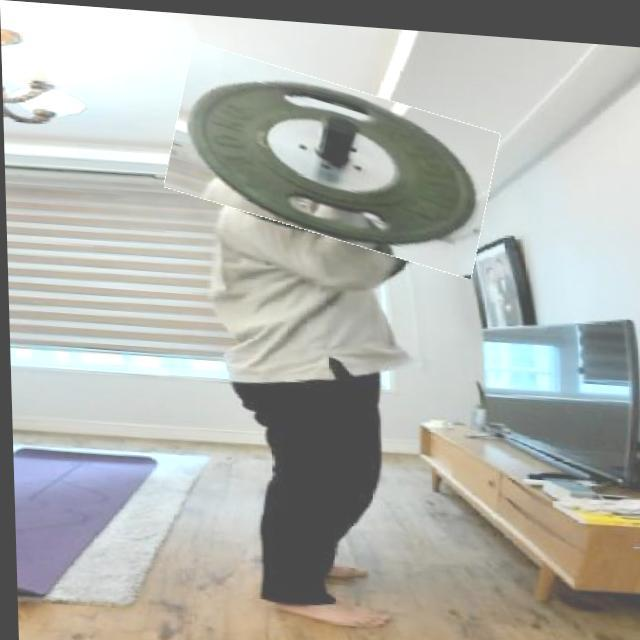barbell: (168, 54, 498, 258)
